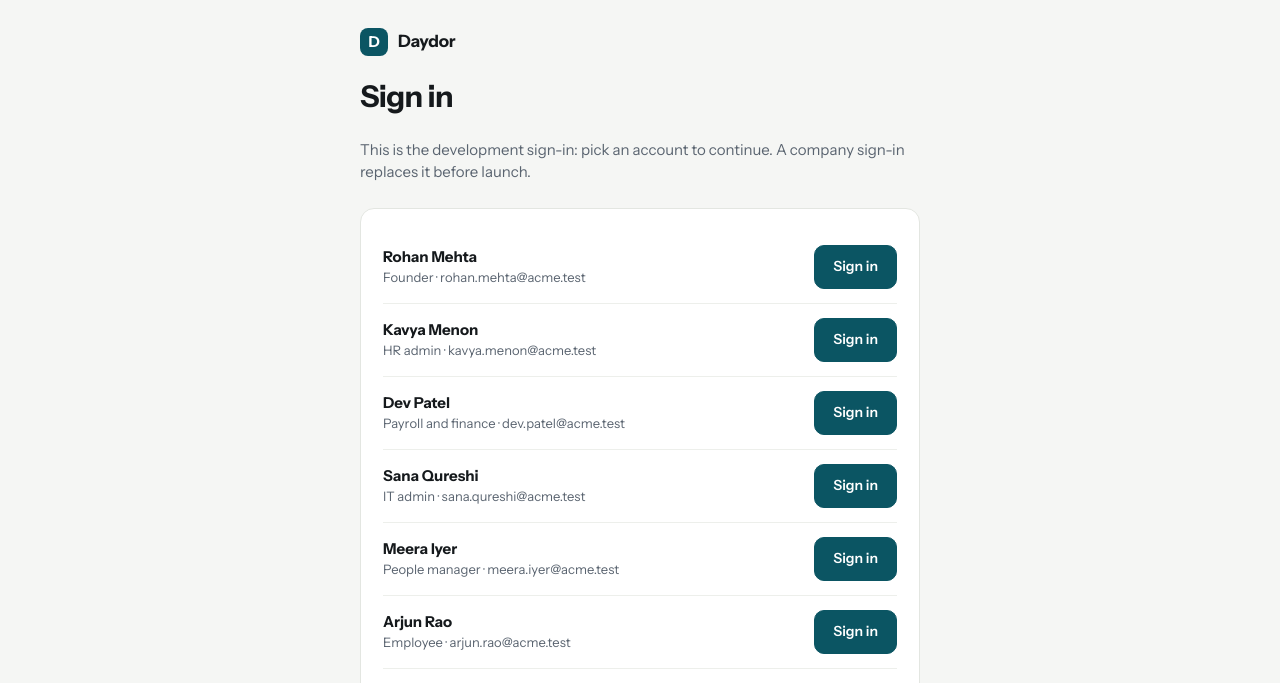
Test case: approvals inbox › counts each tab, puts what you can act on first, and filters by kind
Click the button "Sign in" in the row of "Rohan Mehta".
click(856, 266)  # box 814,244 -> 897,288
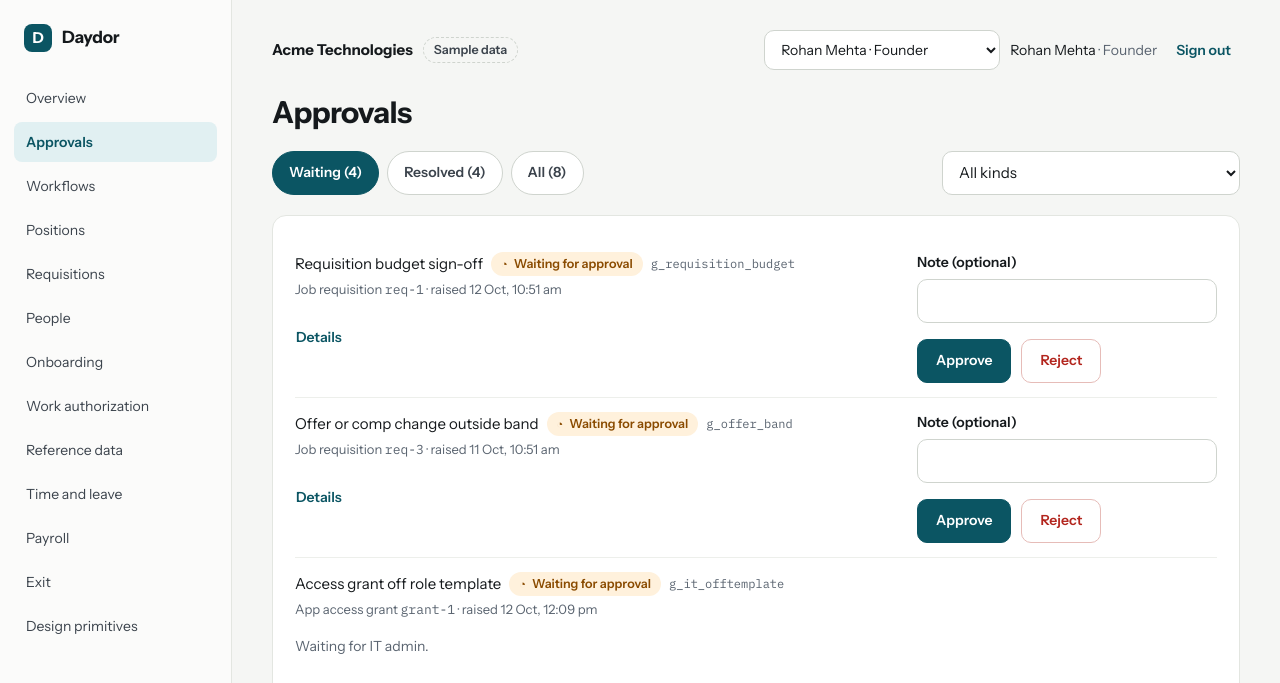
Expected: the button "Waiting (4)" is shown, 272,150 -> 379,194
Expected: the button "Resolved (4)" is shown, 387,150 -> 503,194
Expected: the text "Requisition budget sign-off" is shown, 295,253 -> 483,275
Select "Offer or comp change outside band" in the 2nd dropdown named "Kind of approval" at (1091, 172), box 942,150 -> 1240,194
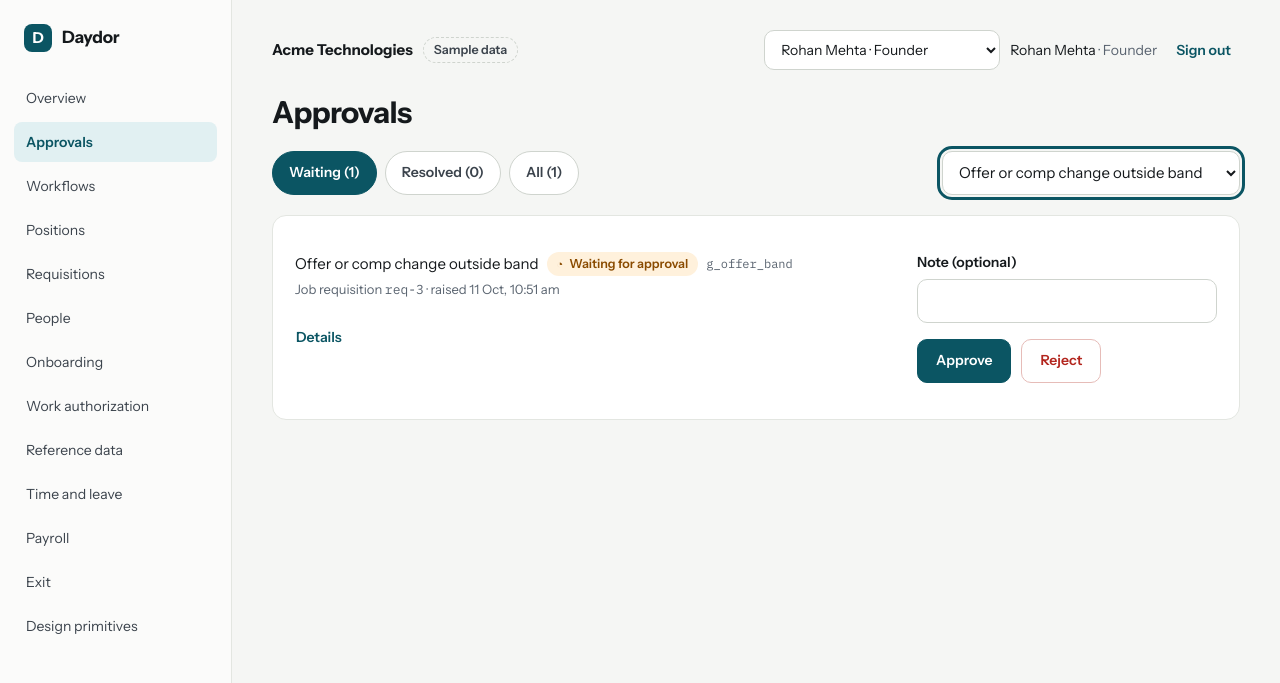
Expected: the button "Waiting (1)" is shown, 272,150 -> 377,194
